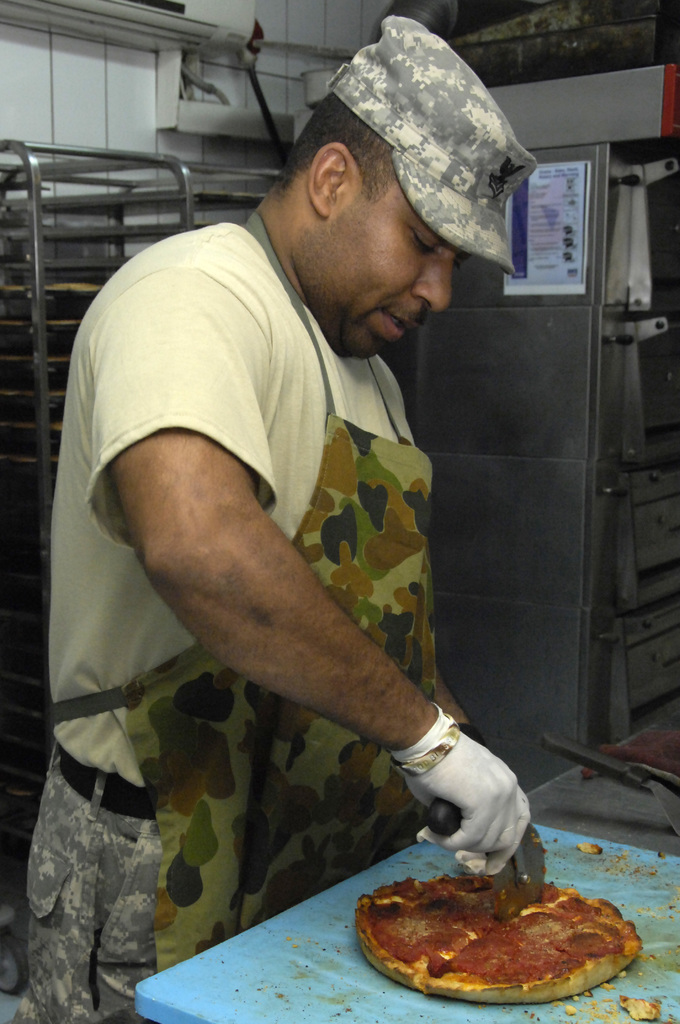Pizza: (373, 883, 663, 1017)
